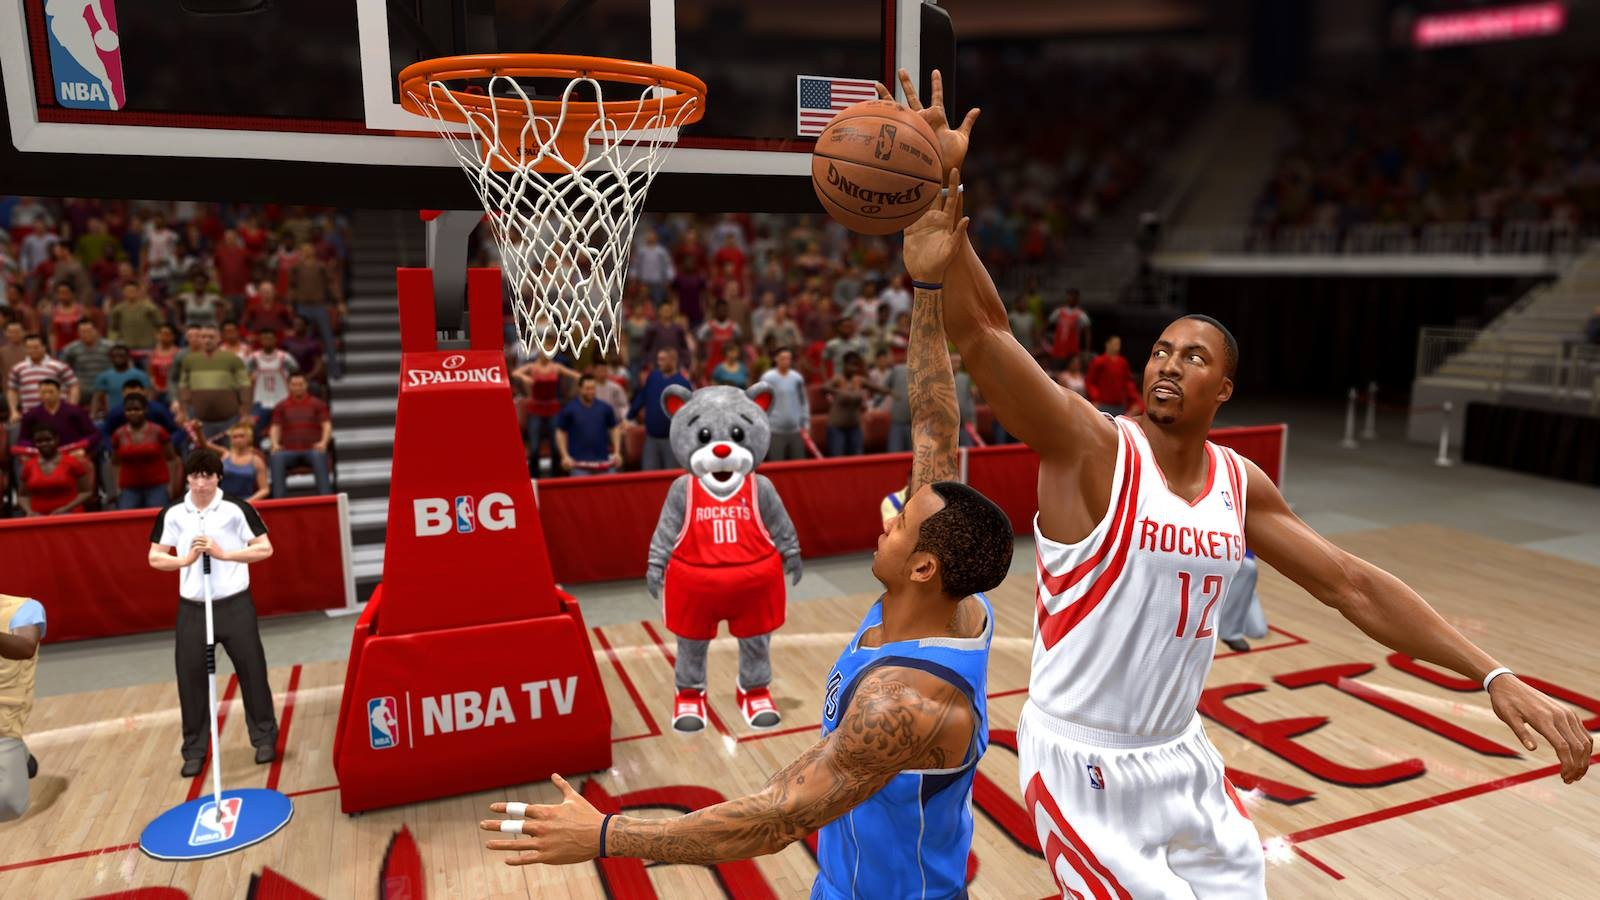basketball: (810, 96, 947, 230)
